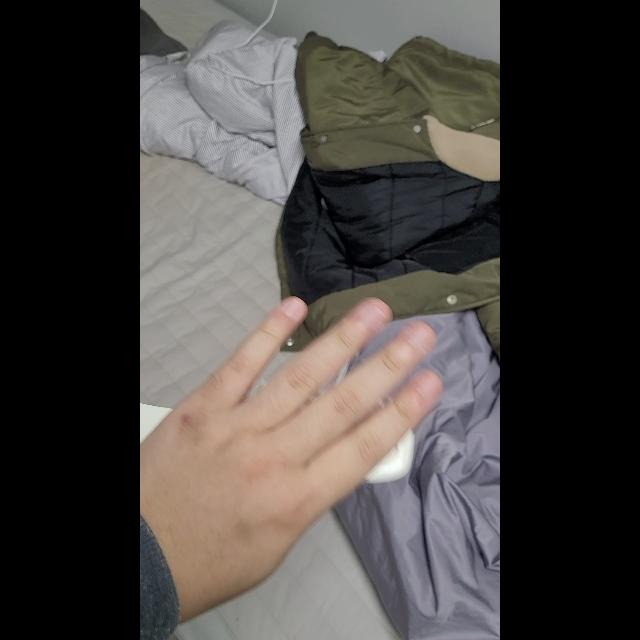COMB: (140, 380, 414, 484)
